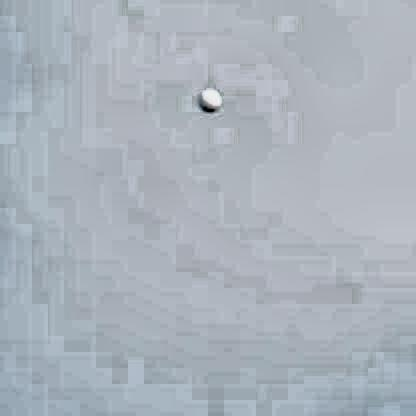golfball: (195, 83, 219, 111)
